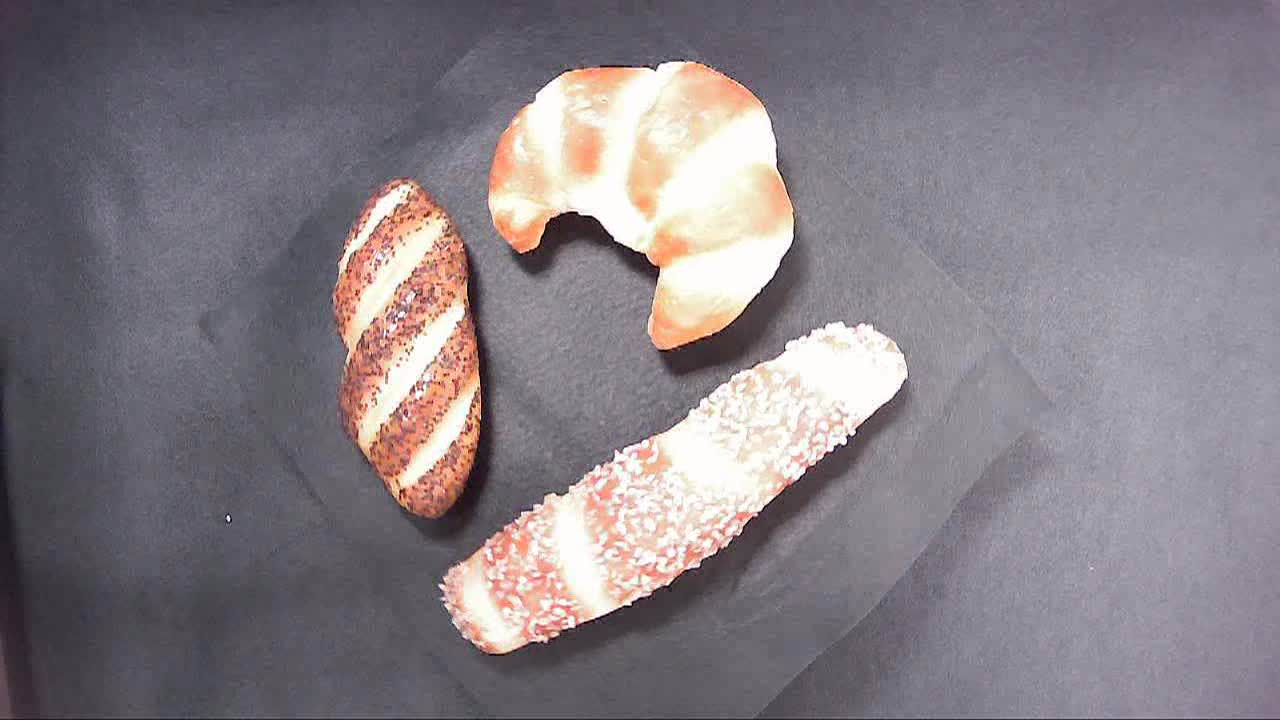cow: (486, 43, 777, 354), (486, 56, 800, 332)
long: (497, 361, 906, 612), (745, 320, 915, 609), (423, 531, 777, 661)
slash: (328, 164, 479, 527)
